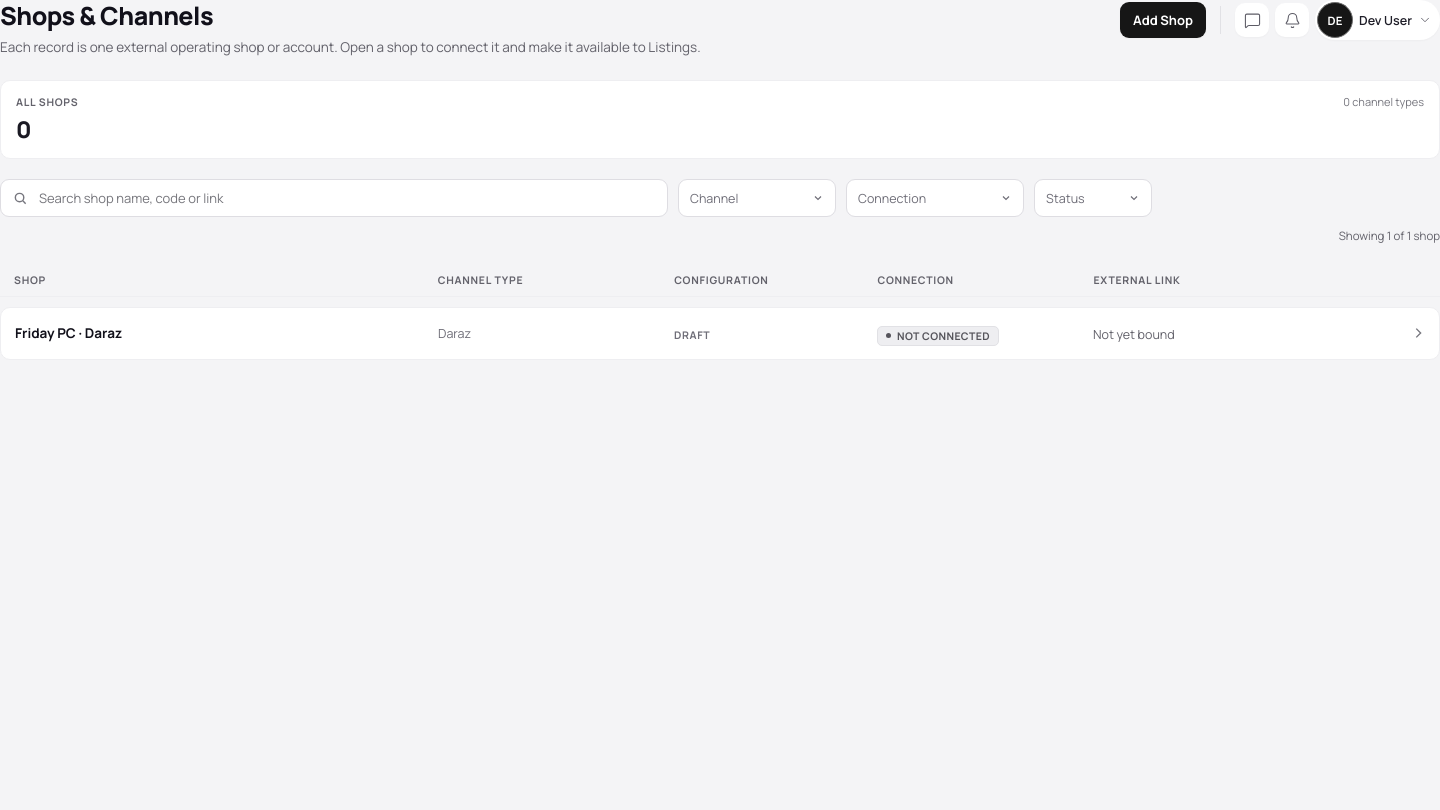
SC-F — a modal with no route › SCS-010 Add Shop opens the modal without leaving the workspace
What coordinates should you click on to do the following:
click the button with test id "add-shop"
I would click on:
 (1163, 20)
Its box is x1=1120 y1=2 x2=1206 y2=38.
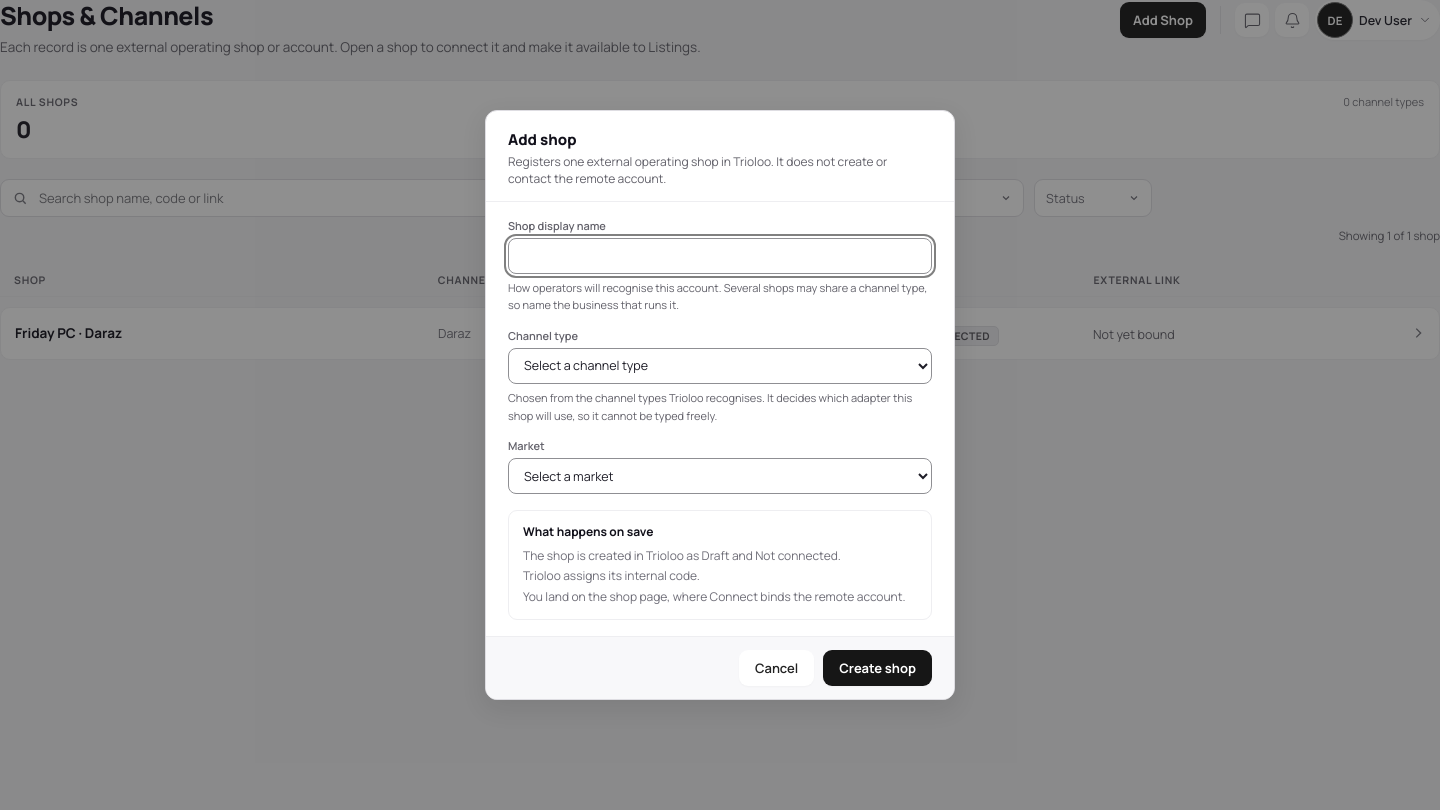
Expected: the search field with test id "shop-search" is shown, x1=37 y1=188 x2=655 y2=208
Expected: the dialog with test id "shop-form-modal" is shown, x1=485 y1=110 x2=955 y2=700
